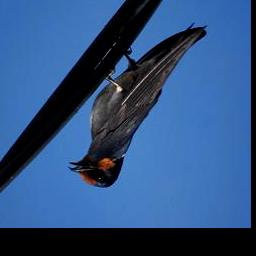Swallow: (70, 27, 209, 189)
